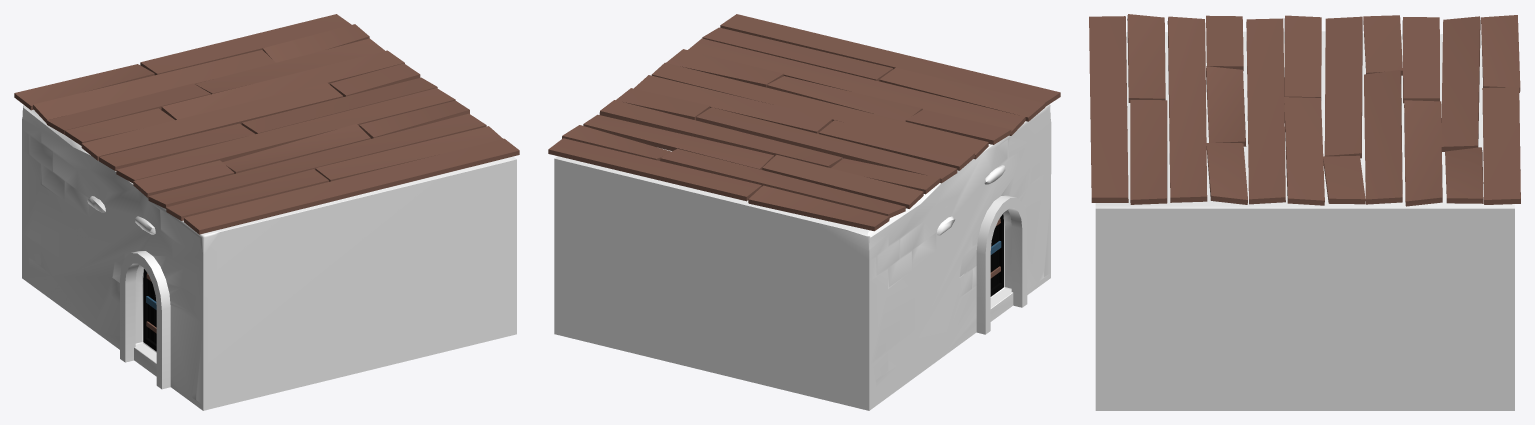
The model's file is civilian_house_39_c.FBX.
3 renders of one model, left to right at view 1: azimuth 30°, elevation 25°; view 2: azimuth 150°, elevation 25°; view 3: azimuth 270°, elevation 25°, orthographic. The views are drawn at different scales.
Visible parts, largest first — view 1: civilian_house_39_c_LOD0; view 2: civilian_house_39_c_LOD0; view 3: civilian_house_39_c_LOD0.
Boxes of the visible parts, box(x1,y1,x2,y2) form: civilian_house_39_c_LOD0: box(14, 14, 519, 410); civilian_house_39_c_LOD0: box(548, 14, 1060, 410); civilian_house_39_c_LOD0: box(1089, 14, 1520, 410).
Size of what is drawn, in the model's own units: 628 by 342 by 618.
